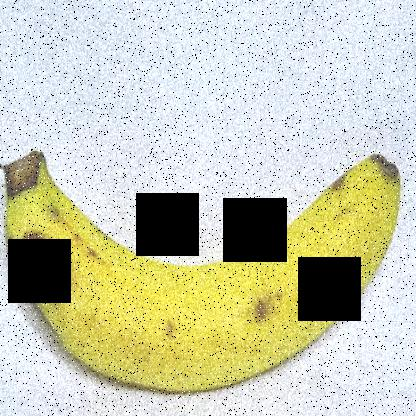freshripe: (1, 121, 413, 407)
